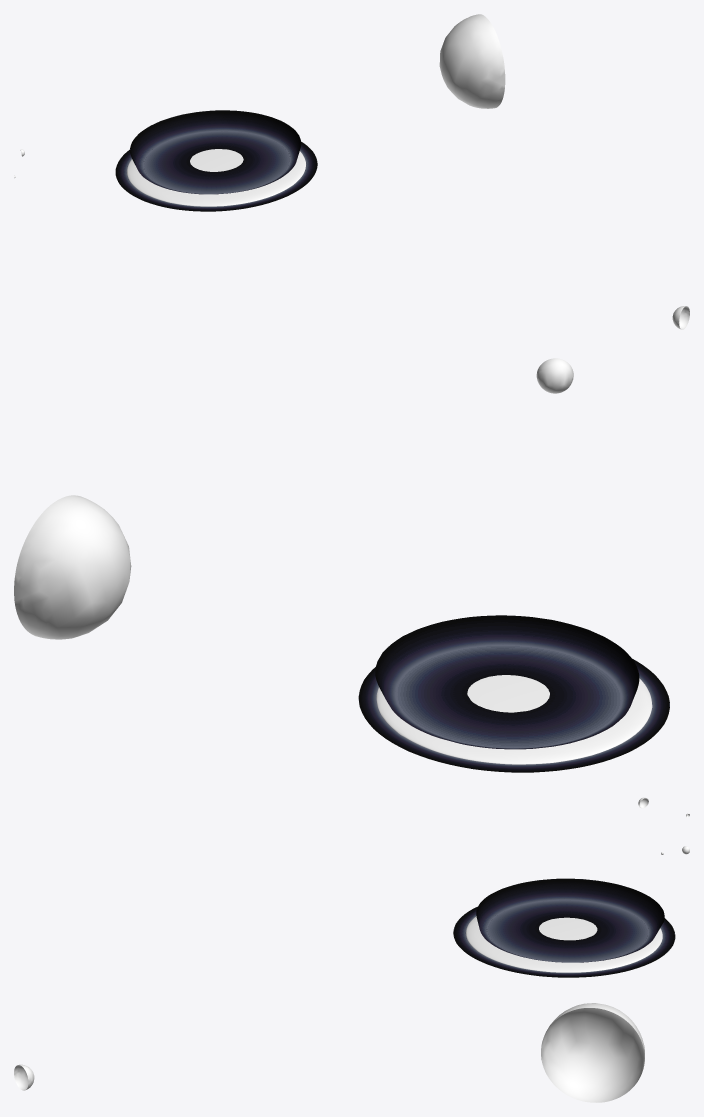
Rendered from env_space_coruscant_01_pre.glb.
3 views of the same model, one above another, from view 1: azimuth 30°, elevation 25°; view 2: azimuth 150°, elevation 25°; view 3: azimuth 270°, elevation 25° (orthographic). The views are drawn at different scales.
Visible parts, largest first — view 1: prop_planet_atmosphere_mesh, planethoth_mesh, polySurface1; view 2: prop_planet_atmosphere_mesh, polySurface1 (×2), planethoth_mesh; view 3: prop_planet_atmosphere_mesh, polySurface1 (×2), planethoth_mesh.
Part boxes in pixels (x1=…): prop_planet_atmosphere_mesh: x1=130, y1=110, x2=301, y2=194; planethoth_mesh: x1=115, y1=142, x2=317, y2=211; polySurface1: x1=439, y1=14, x2=505, y2=108; prop_planet_atmosphere_mesh: x1=375, y1=615, x2=639, y2=749; polySurface1 (×2): x1=14, y1=358, x2=573, y2=639; planethoth_mesh: x1=358, y1=659, x2=669, y2=772; prop_planet_atmosphere_mesh: x1=476, y1=878, x2=664, y2=962; polySurface1 (×2): x1=14, y1=1003, x2=644, y2=1102; planethoth_mesh: x1=453, y1=906, x2=675, y2=977.
Size of the model in its own units: 541 by 122 by 645.
Materials: 3 (1 with a texture image).
